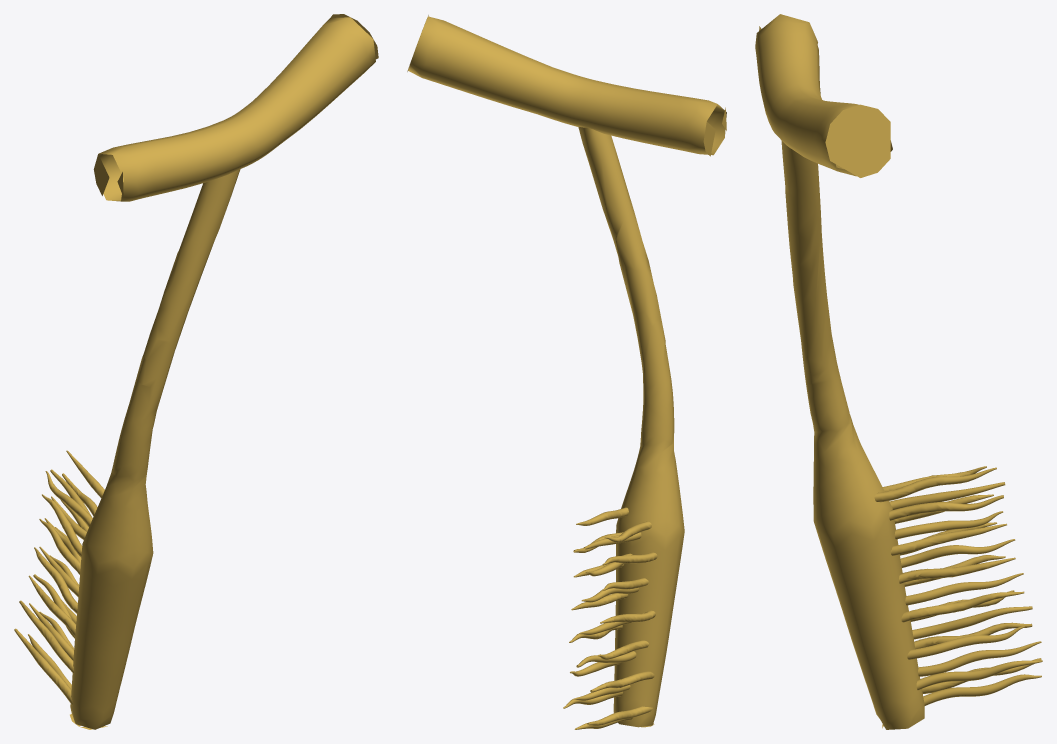
3 renders of one model, left to right at view 1: azimuth 30°, elevation 25°; view 2: azimuth 150°, elevation 25°; view 3: azimuth 270°, elevation 25°, orthographic. The views are drawn at different scales.
Parts seen in each view (by area): view 1: 左侧嗅神经; view 2: 左侧嗅神经; view 3: 左侧嗅神经.
Boxes of the visible parts, left/top/right/bottom form: 左侧嗅神经: left=14, top=14, right=378, bottom=729; 左侧嗅神经: left=407, top=15, right=726, bottom=729; 左侧嗅神经: left=755, top=14, right=1042, bottom=729.
Size of the model in its own units: 0.0345 by 0.0755 by 0.0263.
